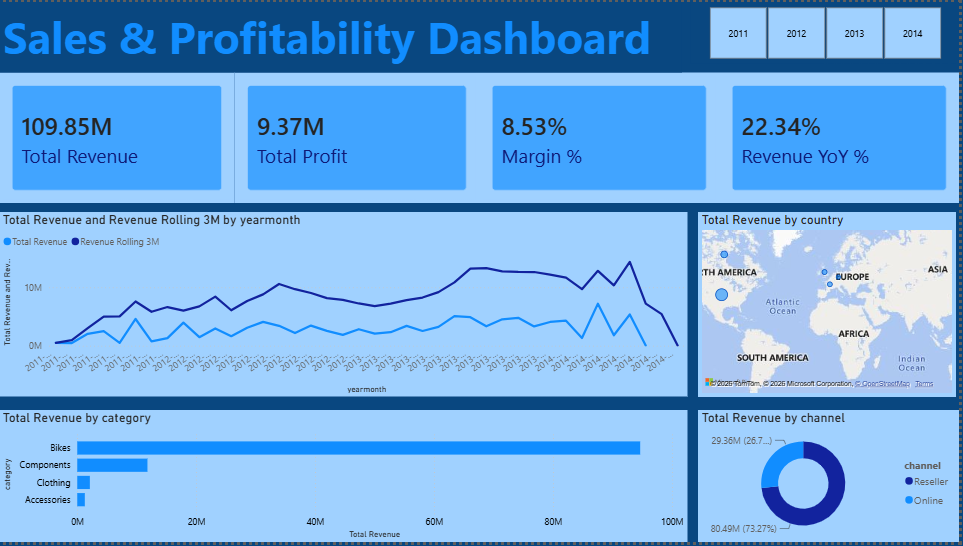

The dashboard page shown, as its layout file describes it:
{"tool":"powerbi","page":{"name":"Page 1","canvas":[1280,720],"ordinal":0},"visuals":[{"type":"cardVisual","fields":{"Data":["adventureworks vw_salesprofit.Total Revenue"]},"box":[0,94,314,174],"z":0},{"type":"barChart","fields":{"Category":["adventureworks dim_product.category","adventureworks dim_product.subcategory","adventureworks dim_product.productname"],"Y":["adventureworks vw_salesprofit.Total Revenue"]},"box":[0,544,918,176],"z":1000},{"type":"cardVisual","fields":{"Data":["adventureworks vw_salesprofit.Margin %"]},"box":[640,94,320,174],"z":2000},{"type":"cardVisual","fields":{"Data":["adventureworks vw_salesprofit.Revenue YoY %"]},"box":[960,94,320,174],"z":3000},{"type":"lineChart","fields":{"Y":["adventureworks vw_salesprofit.Total Revenue","adventureworks vw_salesprofit.Revenue Rolling 3M"],"Category":["adventureworks dim_date.yearmonth"]},"box":[0,280,918,246],"z":4000},{"type":"map","fields":{"Category":["adventureworks dim_region.country"],"Size":["adventureworks vw_salesprofit.Total Revenue"]},"box":[932,280,344,246],"z":5000},{"type":"slicer","fields":{"Values":["adventureworks dim_date.year","adventureworks vw_salesprofit.channel"]},"box":[918,6,358,82],"z":6000},{"type":"cardVisual","fields":{"Data":["adventureworks vw_salesprofit.Total Profit"]},"box":[314,94,326,174],"z":7000},{"type":"textbox","box":[0,0,910,94],"z":9000},{"type":"donutChart","fields":{"Category":["adventureworks vw_salesprofit.channel"],"Y":["adventureworks vw_salesprofit.Total Revenue"]},"box":[932,544,348,176],"z":10000}]}

Visuals, with their boxes in screenshot pixels (x1, y1, x2, y2), scaled from the page's 1280x720 canvas onto the 963x546 screenshot:
cardVisual - adventureworks vw_salesprofit.Total Revenue: <region>0, 71, 236, 203</region>
barChart - adventureworks dim_product.category x adventureworks dim_product.subcategory: <region>0, 413, 691, 545</region>
cardVisual - adventureworks vw_salesprofit.Margin %: <region>482, 71, 722, 203</region>
cardVisual - adventureworks vw_salesprofit.Revenue YoY %: <region>722, 71, 962, 203</region>
lineChart - adventureworks vw_salesprofit.Total Revenue x adventureworks vw_salesprofit.Revenue Rolling 3M: <region>0, 212, 691, 399</region>
map - adventureworks dim_region.country x adventureworks vw_salesprofit.Total Revenue: <region>701, 212, 960, 399</region>
slicer - adventureworks dim_date.year x adventureworks vw_salesprofit.channel: <region>691, 5, 960, 67</region>
cardVisual - adventureworks vw_salesprofit.Total Profit: <region>236, 71, 482, 203</region>
textbox: <region>0, 0, 685, 71</region>
donutChart - adventureworks vw_salesprofit.channel x adventureworks vw_salesprofit.Total Revenue: <region>701, 413, 962, 545</region>
